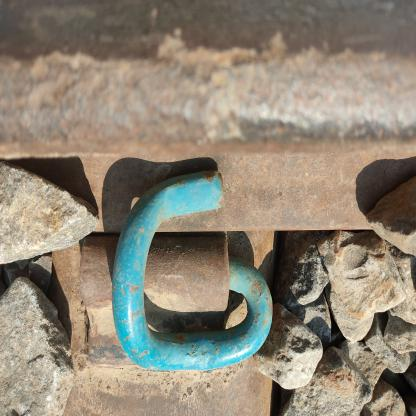Non Defective: (106, 25, 349, 384)
